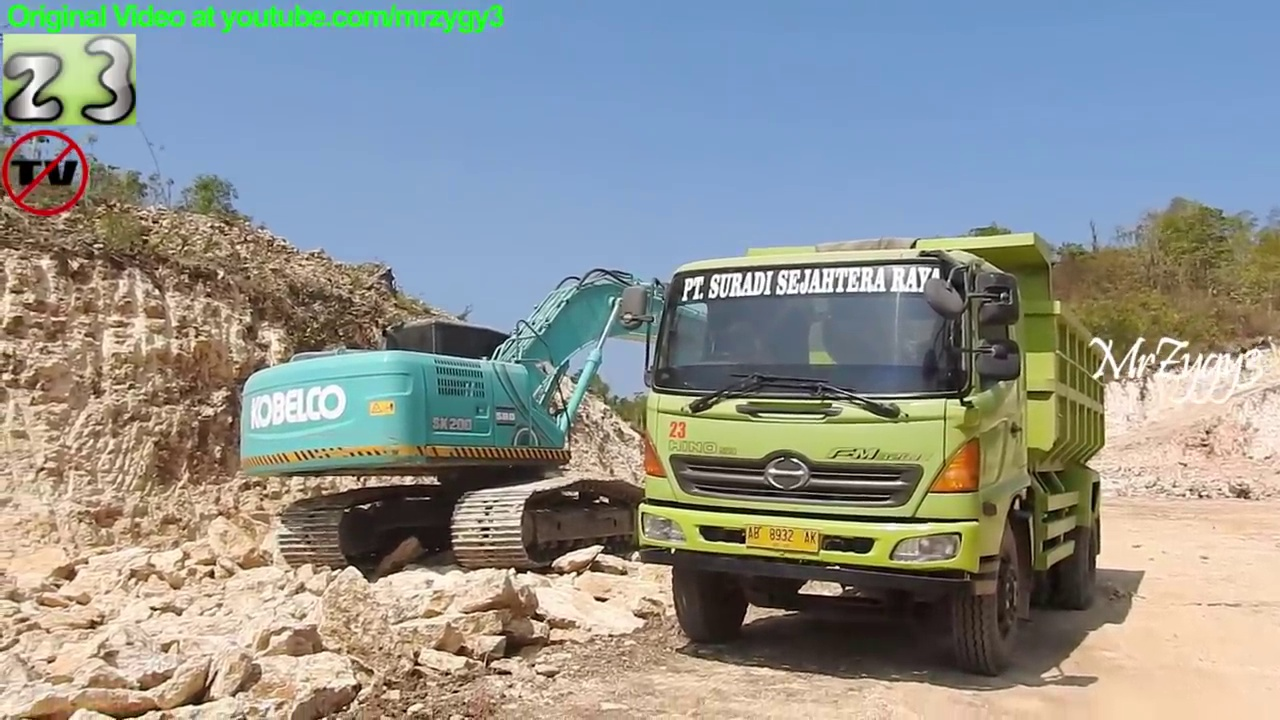excavator: (230, 262, 933, 582)
truck: (612, 223, 1119, 685)
